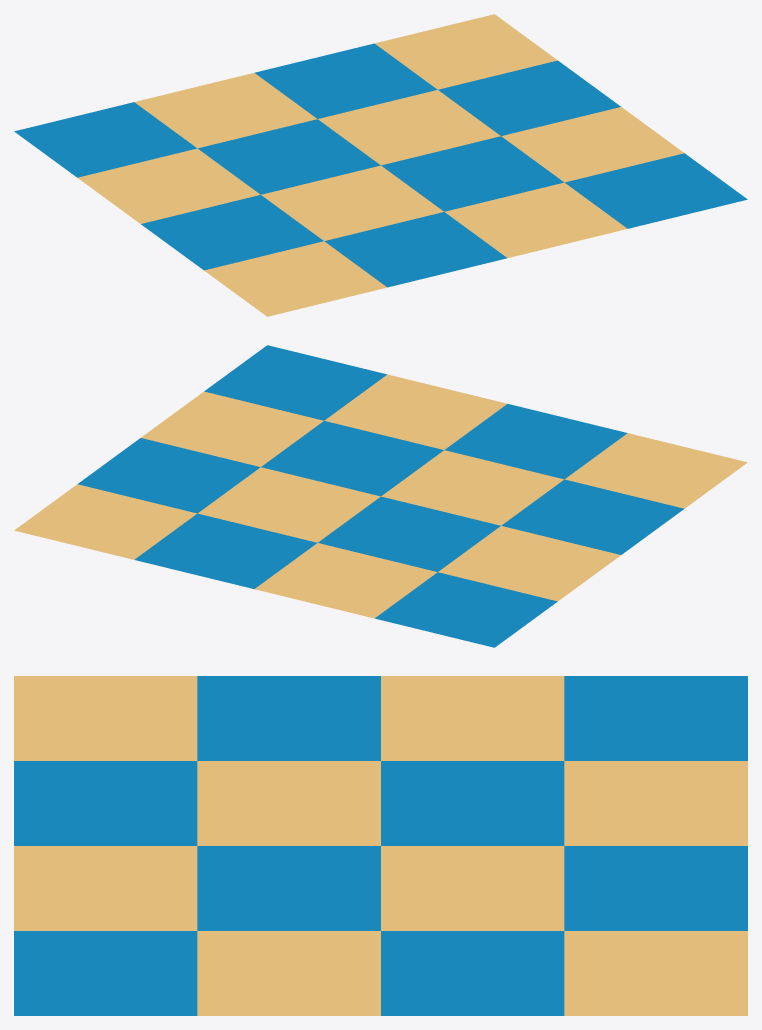
File: Piso.obj
3 views of the same model, one above another, from view 1: azimuth 30°, elevation 25°; view 2: azimuth 150°, elevation 25°; view 3: azimuth 270°, elevation 25° (orthographic). The views are drawn at different scales.
Parts seen in each view (by area): view 1: pasted__polySurface498 pasted__polySurface483 group8; view 2: pasted__polySurface498 pasted__polySurface483 group8; view 3: pasted__polySurface498 pasted__polySurface483 group8.
Part boxes in pixels (<box>): pasted__polySurface498 pasted__polySurface483 group8: <box>14,14,747,316</box>; pasted__polySurface498 pasted__polySurface483 group8: <box>14,345,747,647</box>; pasted__polySurface498 pasted__polySurface483 group8: <box>14,676,747,1015</box>.
Bounding box in the file's own units: 21.76 × 0 × 19.87.
Materials: 2 (2 with a texture image).
